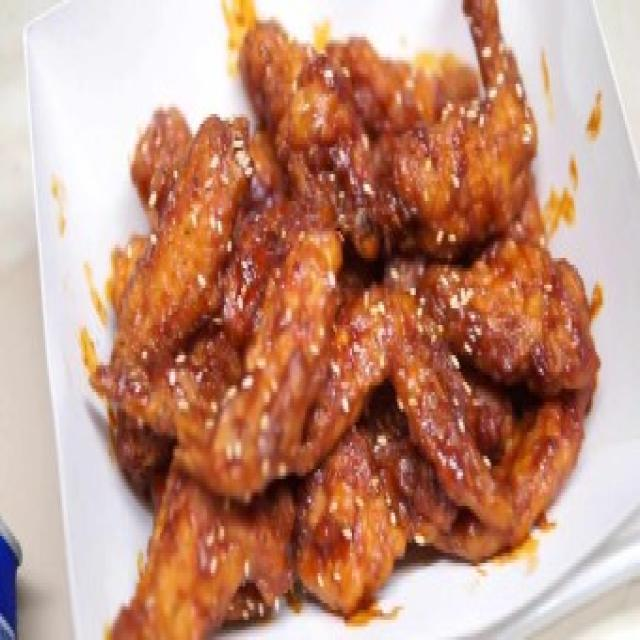Frango: (90, 0, 614, 640)
